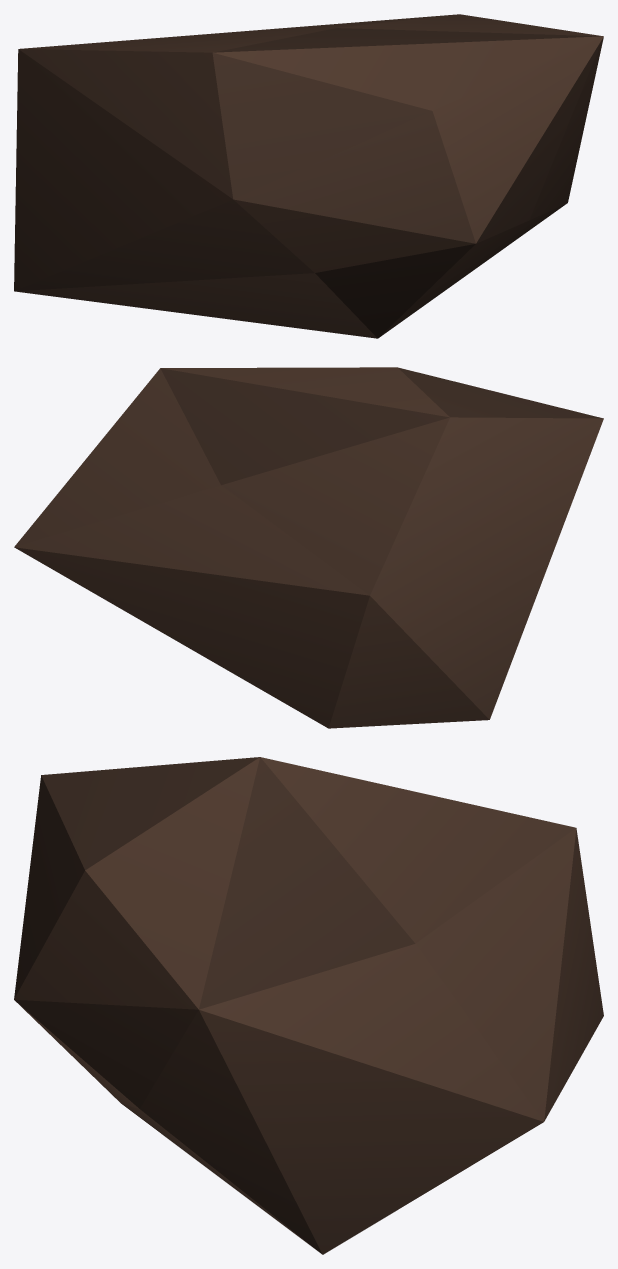
File: landfill.glb
The picture shows the model from 3 angles, top to bottom: view 1: azimuth 30°, elevation 25°; view 2: azimuth 150°, elevation 25°; view 3: azimuth 270°, elevation 25°; orthographic projection. The views are drawn at different scales.
Visible parts, largest first — view 1: landfill; view 2: landfill; view 3: landfill.
Boxes of the visible parts, box(x1,y1,x2,y2) form: landfill: box(14, 14, 603, 338); landfill: box(14, 367, 603, 728); landfill: box(14, 757, 603, 1254).
Bounding box in the file's own units: 0.24 × 0.12 × 0.22.
